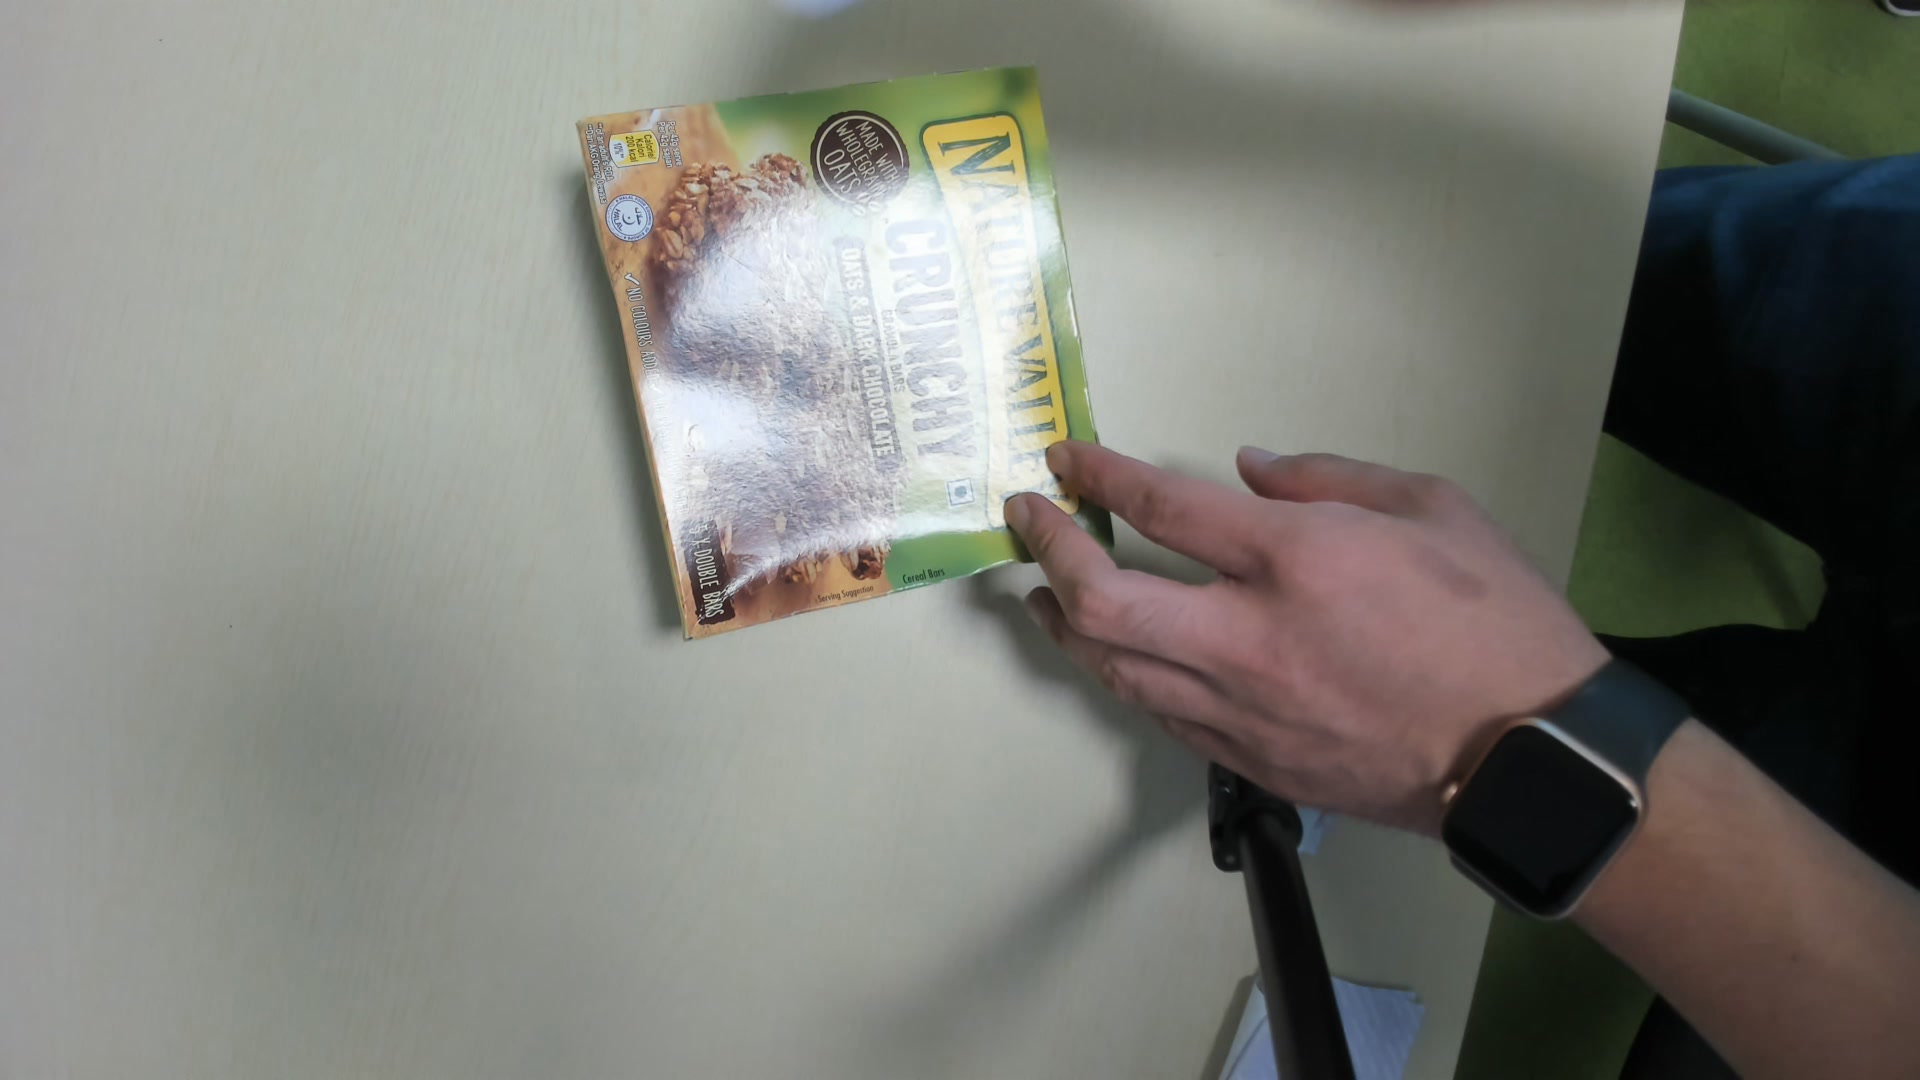SweetsChocolatesOthers_200-299g_Halal_Nonhealthy: (571, 69, 1120, 641)
